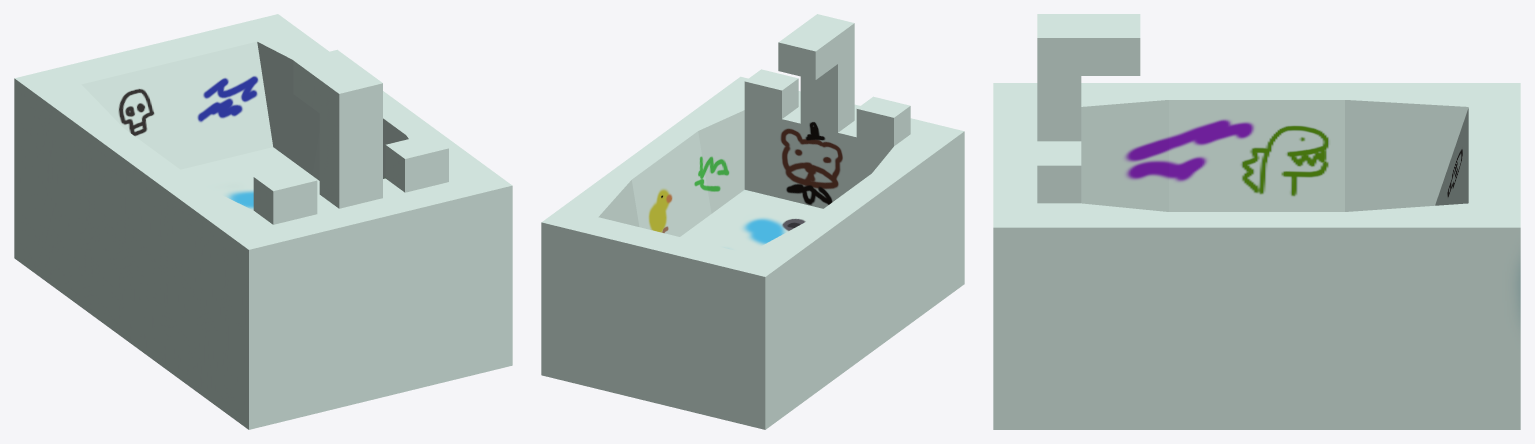
File: Tub.fbx
3 views of the same model, side by side, from view 1: azimuth 30°, elevation 25°; view 2: azimuth 150°, elevation 25°; view 3: azimuth 270°, elevation 25° (orthographic). The views are drawn at different scales.
Parts seen in each view (by area): view 1: Cube; view 2: Cube; view 3: Cube.
Boxes of the visible parts, x1,y1,x2,y2 form: Cube: (14,14,512,429); Cube: (541,14,964,429); Cube: (993,14,1520,429).
Bounding box in the file's own units: 307 × 328 × 472.
